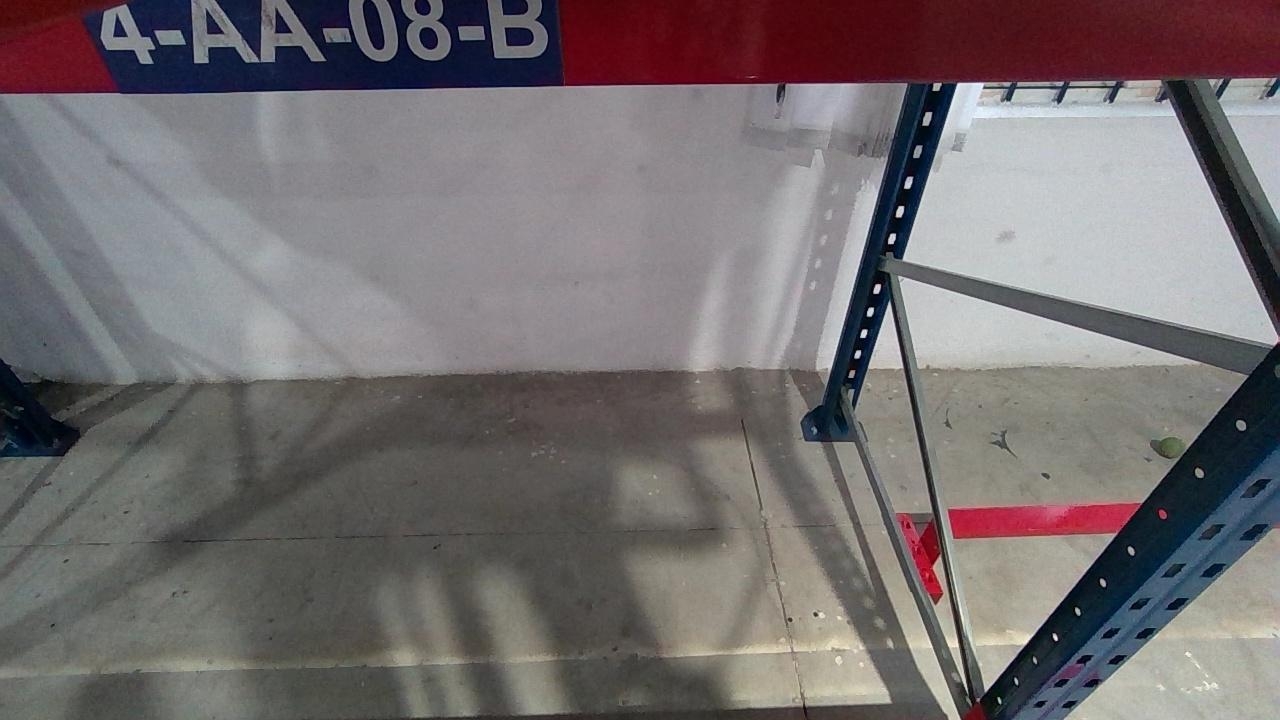h_rack: (0, 0, 1280, 92)
